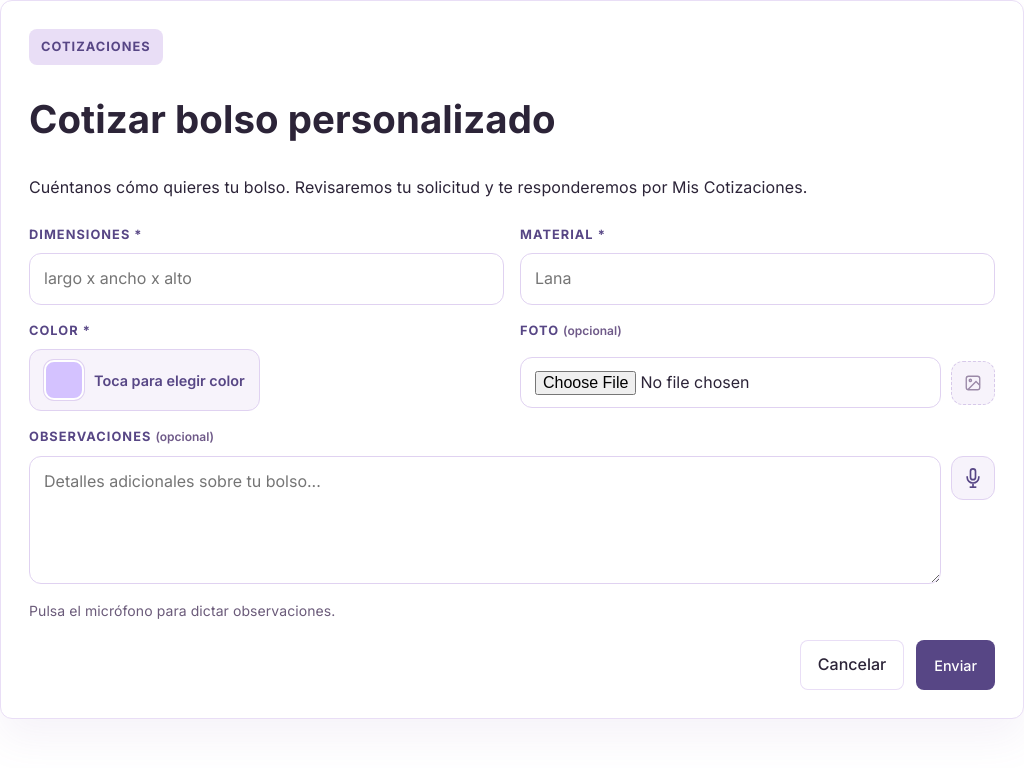
Test: CotizarPage dictado (HU-34) › concatena texto dictado en observaciones
Type "Necesito asas" into the text box with placeholder "Detalles adicionales sobre tu bolso..." at (485, 520), box [29,456,941,584]
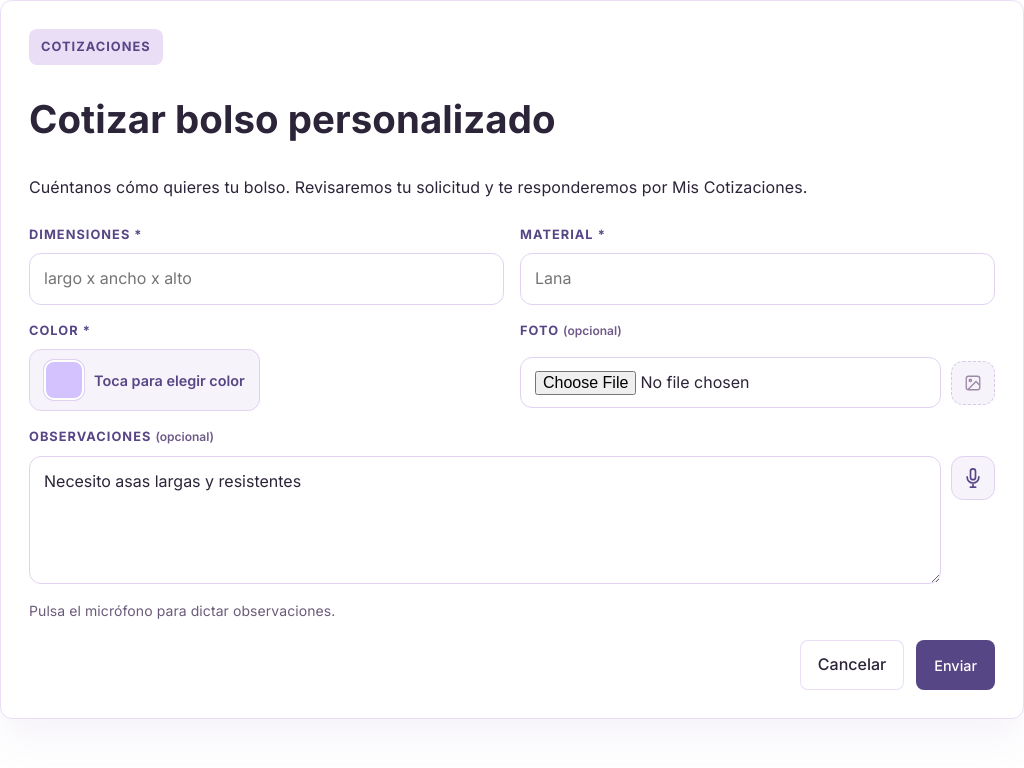
Check: the text box with placeholder "Detalles adicionales sobre tu bolso..." holds "Necesito asas largas y resistentes", box [29,456,941,584]
